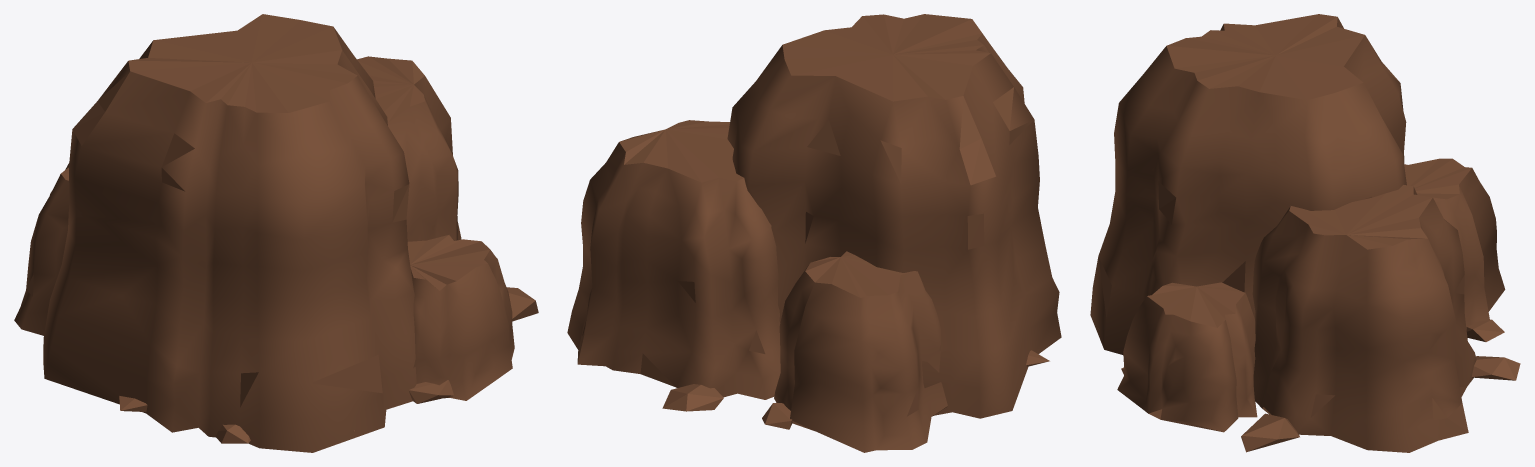
File: outcrop-r02-low.glb
The picture shows the model from 3 angles, left to right: view 1: azimuth 30°, elevation 25°; view 2: azimuth 150°, elevation 25°; view 3: azimuth 270°, elevation 25°; orthographic projection. The views are drawn at different scales.
Visible parts, largest first — view 1: H01 batch 00 / Ares S02 / fractured basalt; view 2: H01 batch 00 / Ares S02 / fractured basalt; view 3: H01 batch 00 / Ares S02 / fractured basalt.
Part boxes in pixels (<box>): H01 batch 00 / Ares S02 / fractured basalt: <box>14,14,538,452</box>; H01 batch 00 / Ares S02 / fractured basalt: <box>567,14,1061,452</box>; H01 batch 00 / Ares S02 / fractured basalt: <box>1090,14,1520,452</box>.
Bounding box in the file's own units: 1.62 × 1.08 × 1.51.
